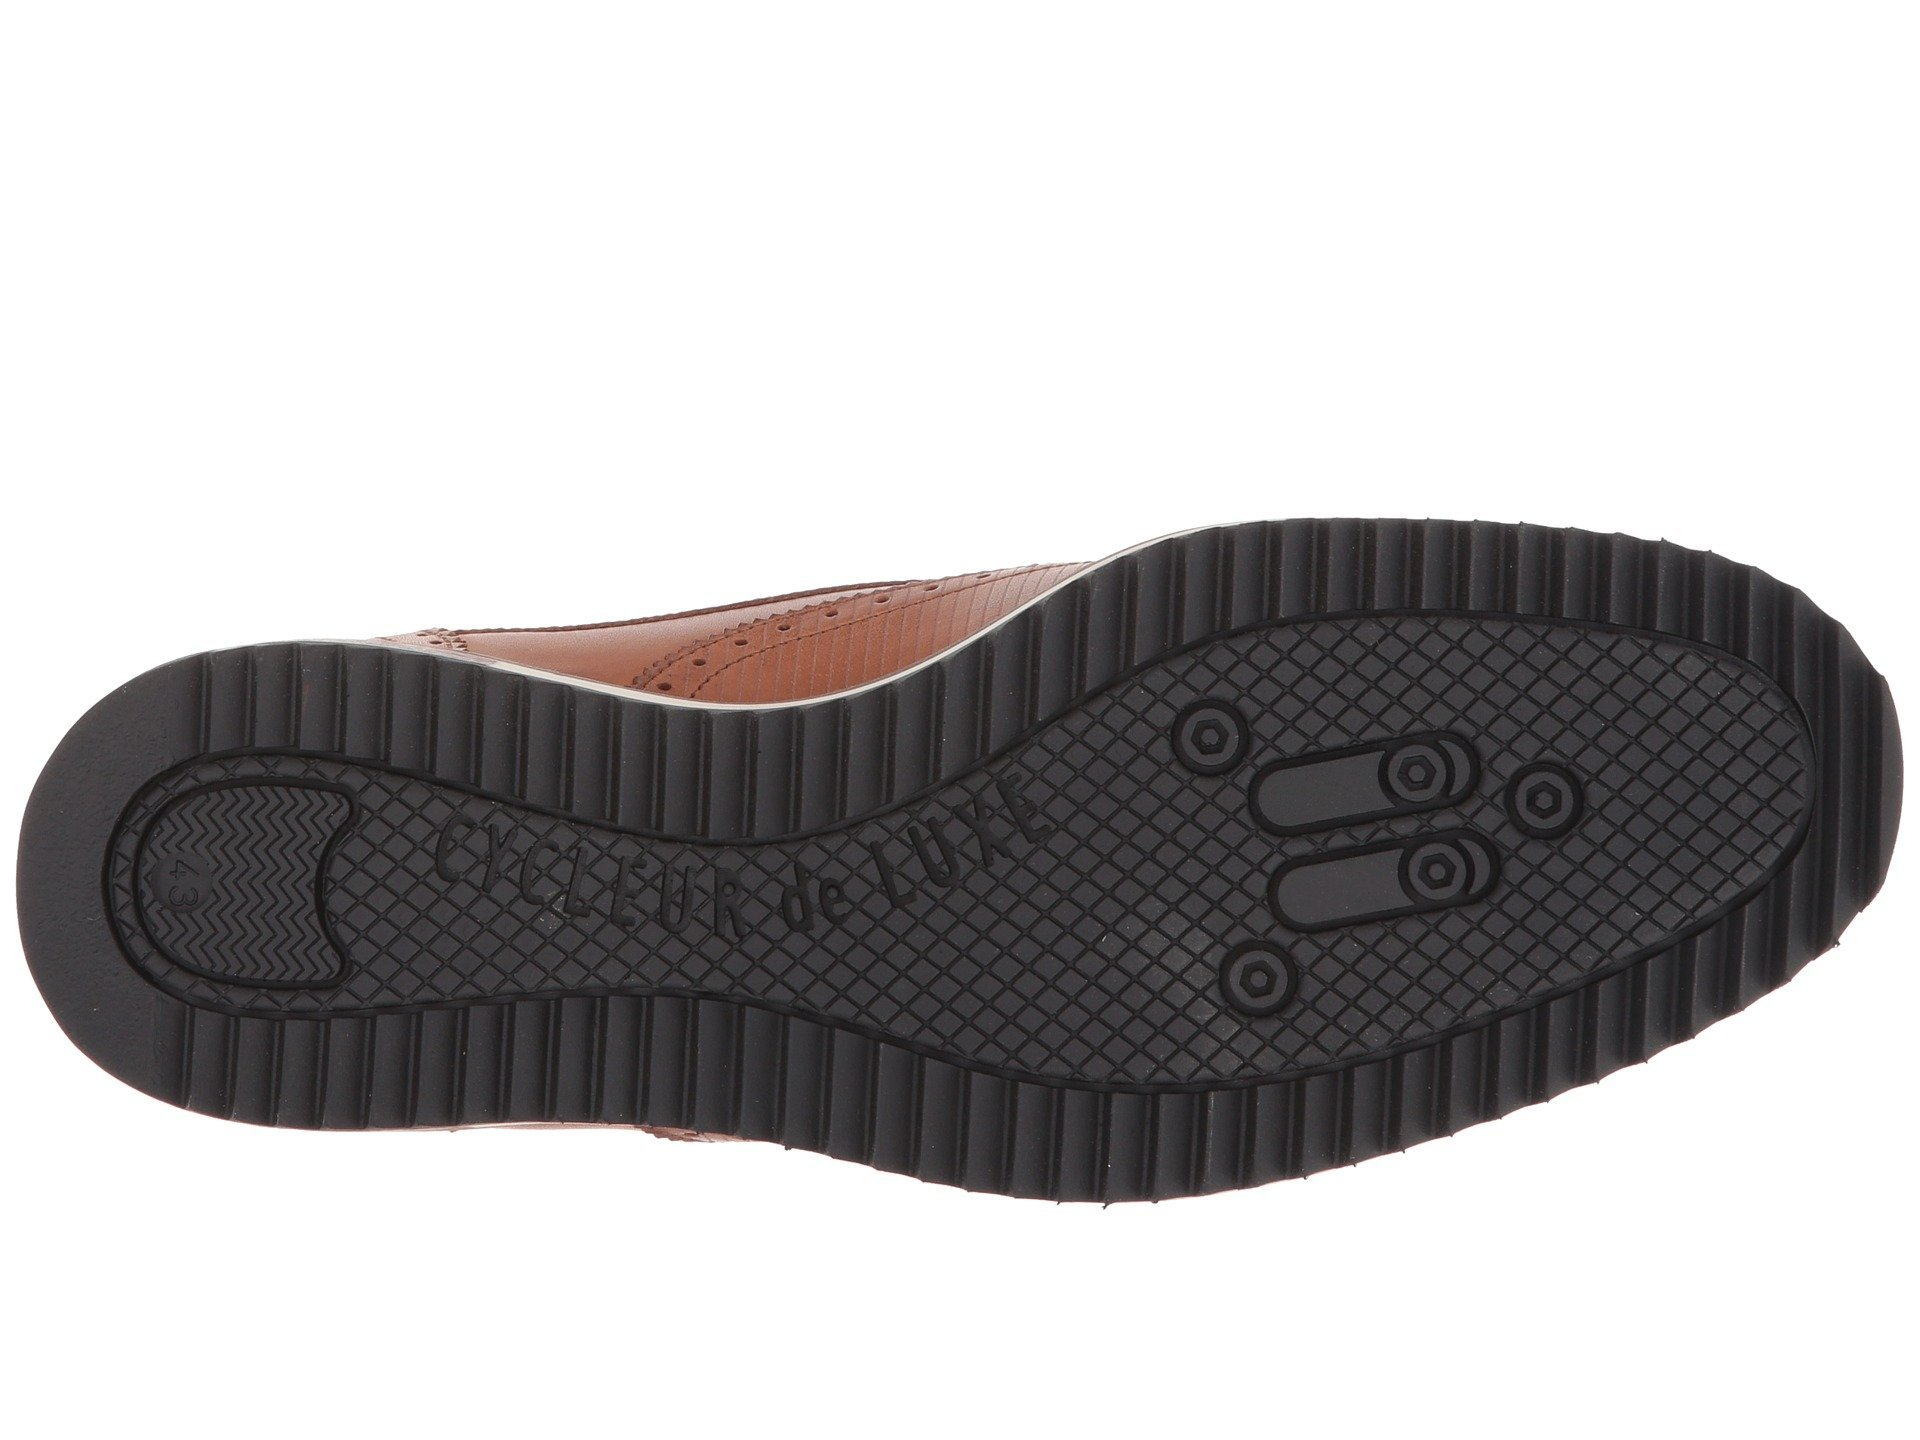chevron: (159, 818, 302, 965)
circle: (1141, 653, 1619, 1036)
line: (1141, 653, 1619, 1036), (395, 784, 745, 1047)
quad: (1141, 653, 1619, 1036), (395, 784, 745, 1047)
text: (395, 784, 745, 1047), (159, 818, 302, 965)
